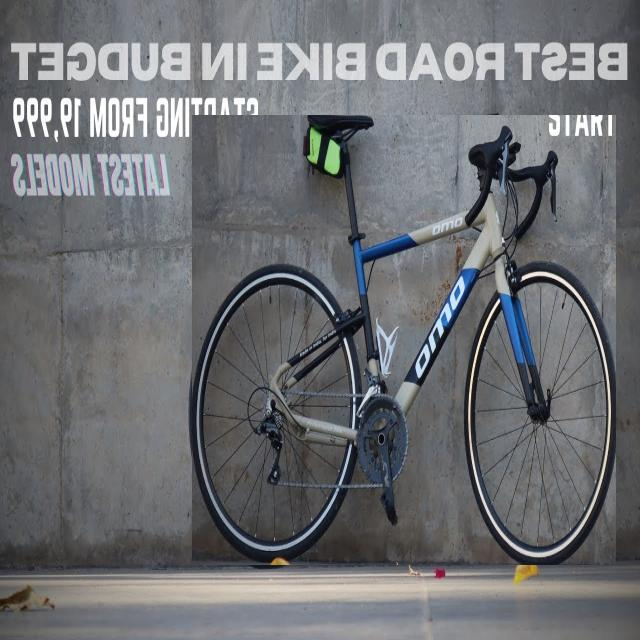bicycle: (192, 115, 615, 565)
